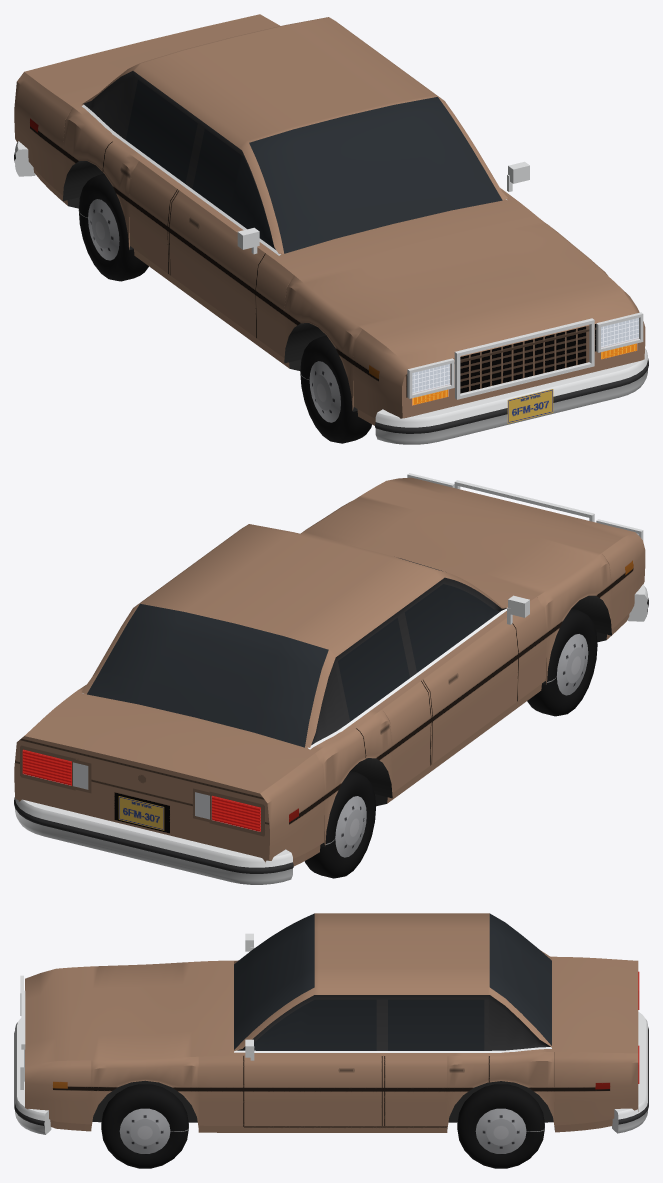
File: aries.glb
The picture shows the model from 3 angles, top to bottom: view 1: azimuth 30°, elevation 25°; view 2: azimuth 150°, elevation 25°; view 3: azimuth 270°, elevation 25°; orthographic projection. The views are drawn at different scales.
Visible parts, largest first — view 1: Body, Wheel_FR, Wheel_RR, HeadlightEmit; view 2: Body, Wheel_RR, Wheel_FR, TailLightEmit; view 3: Body, Wheel_FL, Wheel_RL.
Boxes of the visible parts, box(x1,y1,x2,y2) form: Body: box(14, 14, 648, 444); Wheel_FR: box(300, 335, 371, 443); Wheel_RR: box(78, 174, 148, 281); HeadlightEmit: box(412, 318, 638, 393); Body: box(14, 473, 648, 884); Wheel_RR: box(304, 770, 375, 878); Wheel_FR: box(527, 608, 597, 716); TailLightEmit: box(22, 749, 260, 831); Body: box(14, 913, 648, 1134); Wheel_FL: box(101, 1084, 188, 1168); Wheel_RL: box(457, 1084, 544, 1168).
Size of what is drawn, in the model's own units: 1.89 by 1.36 by 4.49.
Materials: 12 (12 with a texture image).
